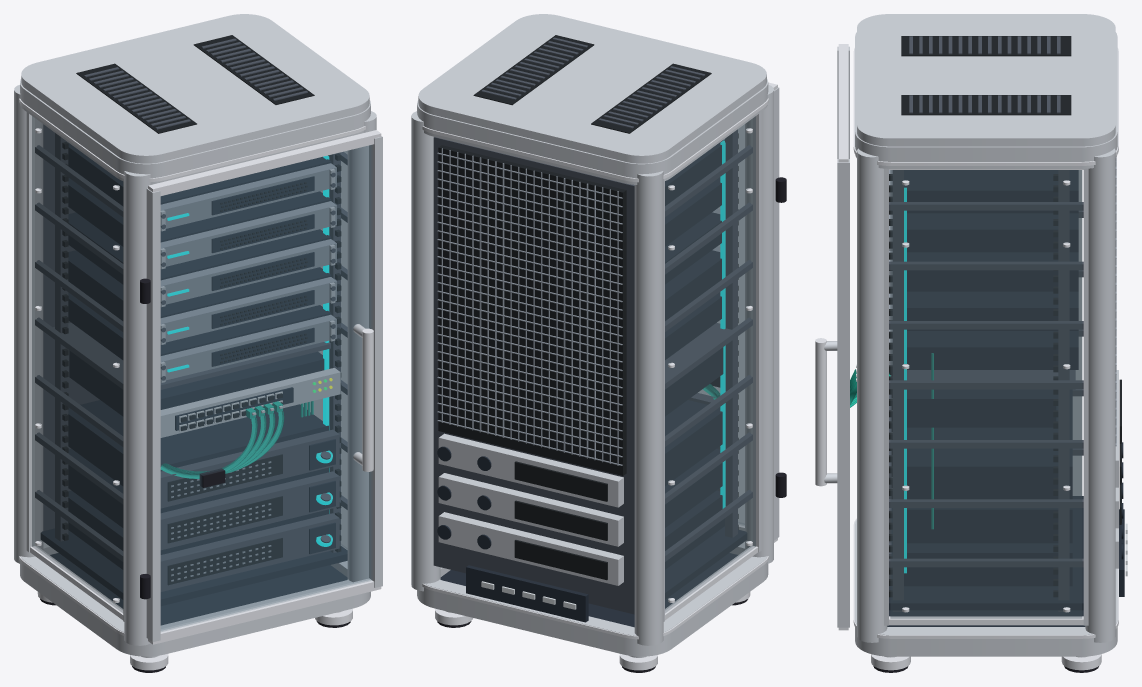
File: semester-2.glb
3 views of the same model, side by side, from view 1: azimuth 30°, elevation 25°; view 2: azimuth 150°, elevation 25°; view 3: azimuth 270°, elevation 25° (orthographic). The views are drawn at different scales.
Parts seen in each view (by area): view 1: Door_glass, Body_silver, Body_black, Body_rear_glass, Body_dark, Body_vent, Body_server, Door_silver, Door_chrome, Body_chrome, Body_cable, Body_led (+2 smaller); view 2: Body_silver, Body_vent, Body_rear_glass, Body_dark, Body_black, Body_server, Body_chrome, Door_silver, Door_glass, Body_led, Body_rubber; view 3: Body_rear_glass, Body_silver, Body_black, Body_dark, Body_vent, Door_silver, Body_chrome, Door_chrome, Body_led, Body_server, Body_cable.
Boxes of the visible parts, x1,y1,x2,y2 form: Door_glass: [161, 145, 372, 631]; Body_silver: [14, 14, 376, 657]; Body_black: [40, 143, 347, 625]; Body_rear_glass: [32, 116, 347, 612]; Body_dark: [35, 38, 347, 591]; Body_vent: [62, 35, 341, 585]; Body_server: [160, 163, 336, 581]; Door_silver: [146, 136, 382, 641]; Door_chrome: [148, 130, 381, 644]; Body_chrome: [19, 98, 365, 670]; Body_cable: [160, 401, 313, 478]; Body_led: [167, 155, 332, 546]; Body_silver: [411, 14, 773, 657]; Body_vent: [438, 35, 738, 580]; Body_rear_glass: [665, 116, 755, 612]; Body_dark: [433, 37, 752, 614]; Body_black: [437, 139, 747, 627]; Body_server: [437, 139, 724, 465]; Body_chrome: [422, 98, 768, 670]; Door_silver: [774, 87, 779, 540]; Door_glass: [698, 125, 744, 524]; Body_led: [720, 140, 725, 508]; Body_rubber: [437, 177, 786, 672]; Body_rear_glass: [890, 170, 1082, 618]; Body_silver: [855, 14, 1118, 657]; Body_black: [887, 170, 1124, 626]; Body_dark: [889, 36, 1083, 611]; Body_vent: [889, 36, 1121, 597]; Door_silver: [824, 46, 849, 627]; Body_chrome: [853, 48, 1118, 670]; Door_chrome: [815, 44, 848, 630]; Body_led: [904, 187, 906, 573]; Body_server: [889, 157, 1116, 446]; Body_cable: [850, 353, 933, 529].
Bounding box in the file's own units: 1.35 × 2.7 × 1.4.
